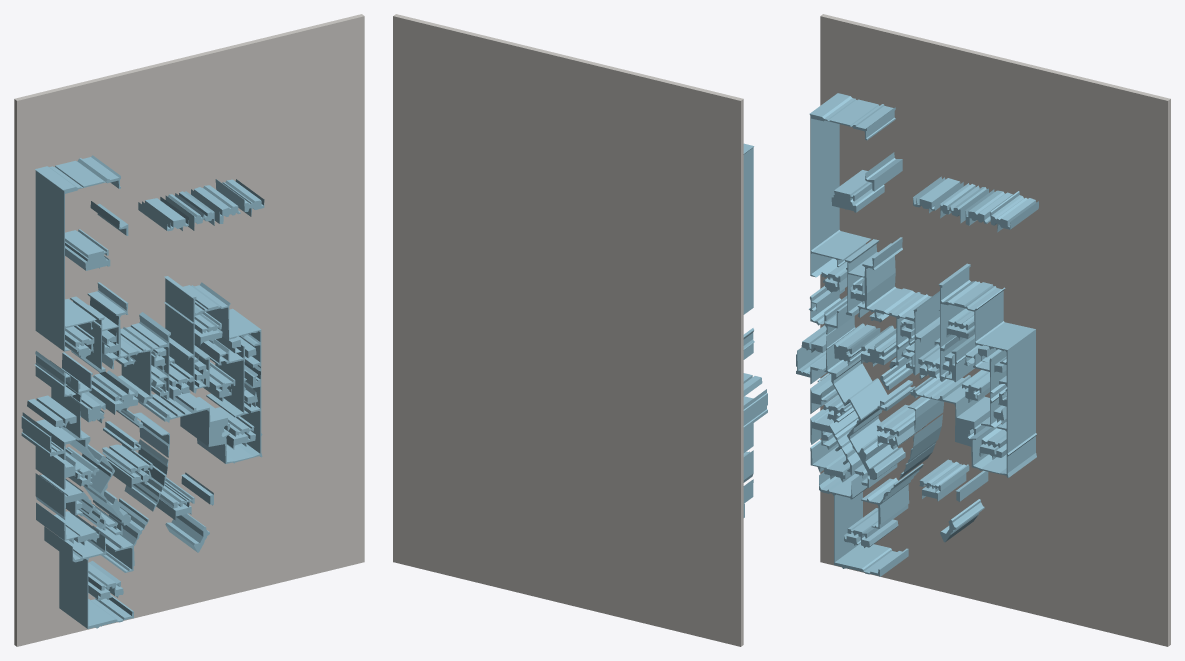
3 views of the same model, side by side, from view 1: azimuth 30°, elevation 25°; view 2: azimuth 150°, elevation 25°; view 3: azimuth 330°, elevation 25° (orthographic).
Parts seen in each view (by area): view 1: world; view 2: world; view 3: world.
Boxes of the visible parts, bbox=[...] form: world: bbox=[14, 14, 364, 646]; world: bbox=[393, 14, 767, 646]; world: bbox=[796, 14, 1170, 646].
Bounding box in the file's own units: 10.23 × 15.35 × 1.6.
